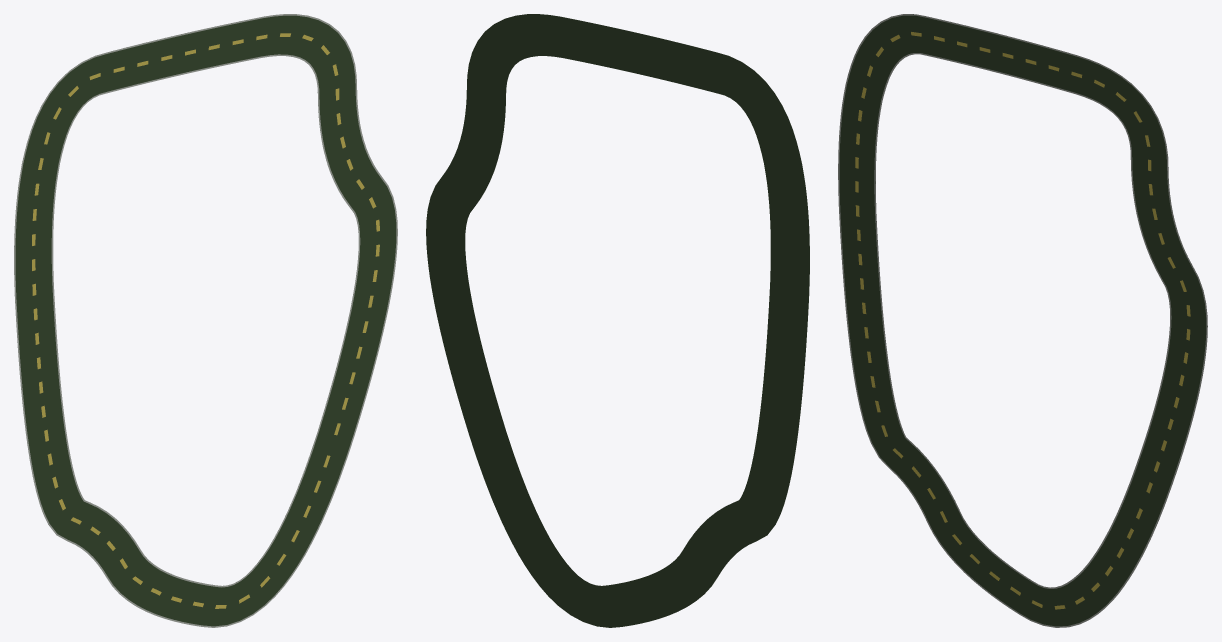
File: track.obj
The picture shows the model from 3 angles, left to right: view 1: azimuth 30°, elevation 25°; view 2: azimuth 150°, elevation 25°; view 3: azimuth 330°, elevation 25°; orthographic projection. The views are drawn at different scales.
Bounding box in the file's own units: 10.48 × 15.75 × 0.002.
3 materials, 3 textured.
